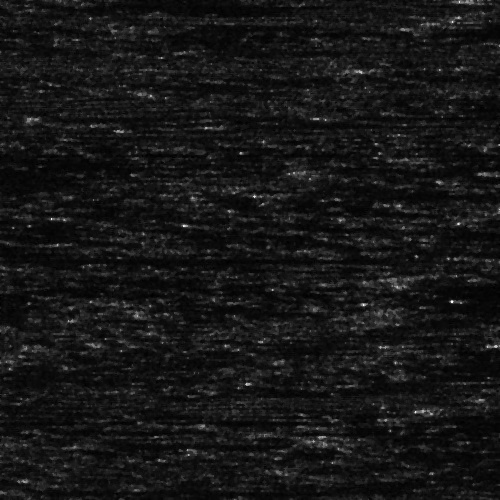rock: (0, 109, 110, 122), (375, 414, 458, 419), (466, 168, 500, 173), (201, 123, 242, 126), (178, 48, 209, 51)
shadow: (0, 252, 343, 265), (43, 109, 275, 122), (0, 375, 143, 382), (417, 414, 500, 419), (222, 123, 302, 126), (194, 48, 272, 51), (427, 156, 500, 157)
